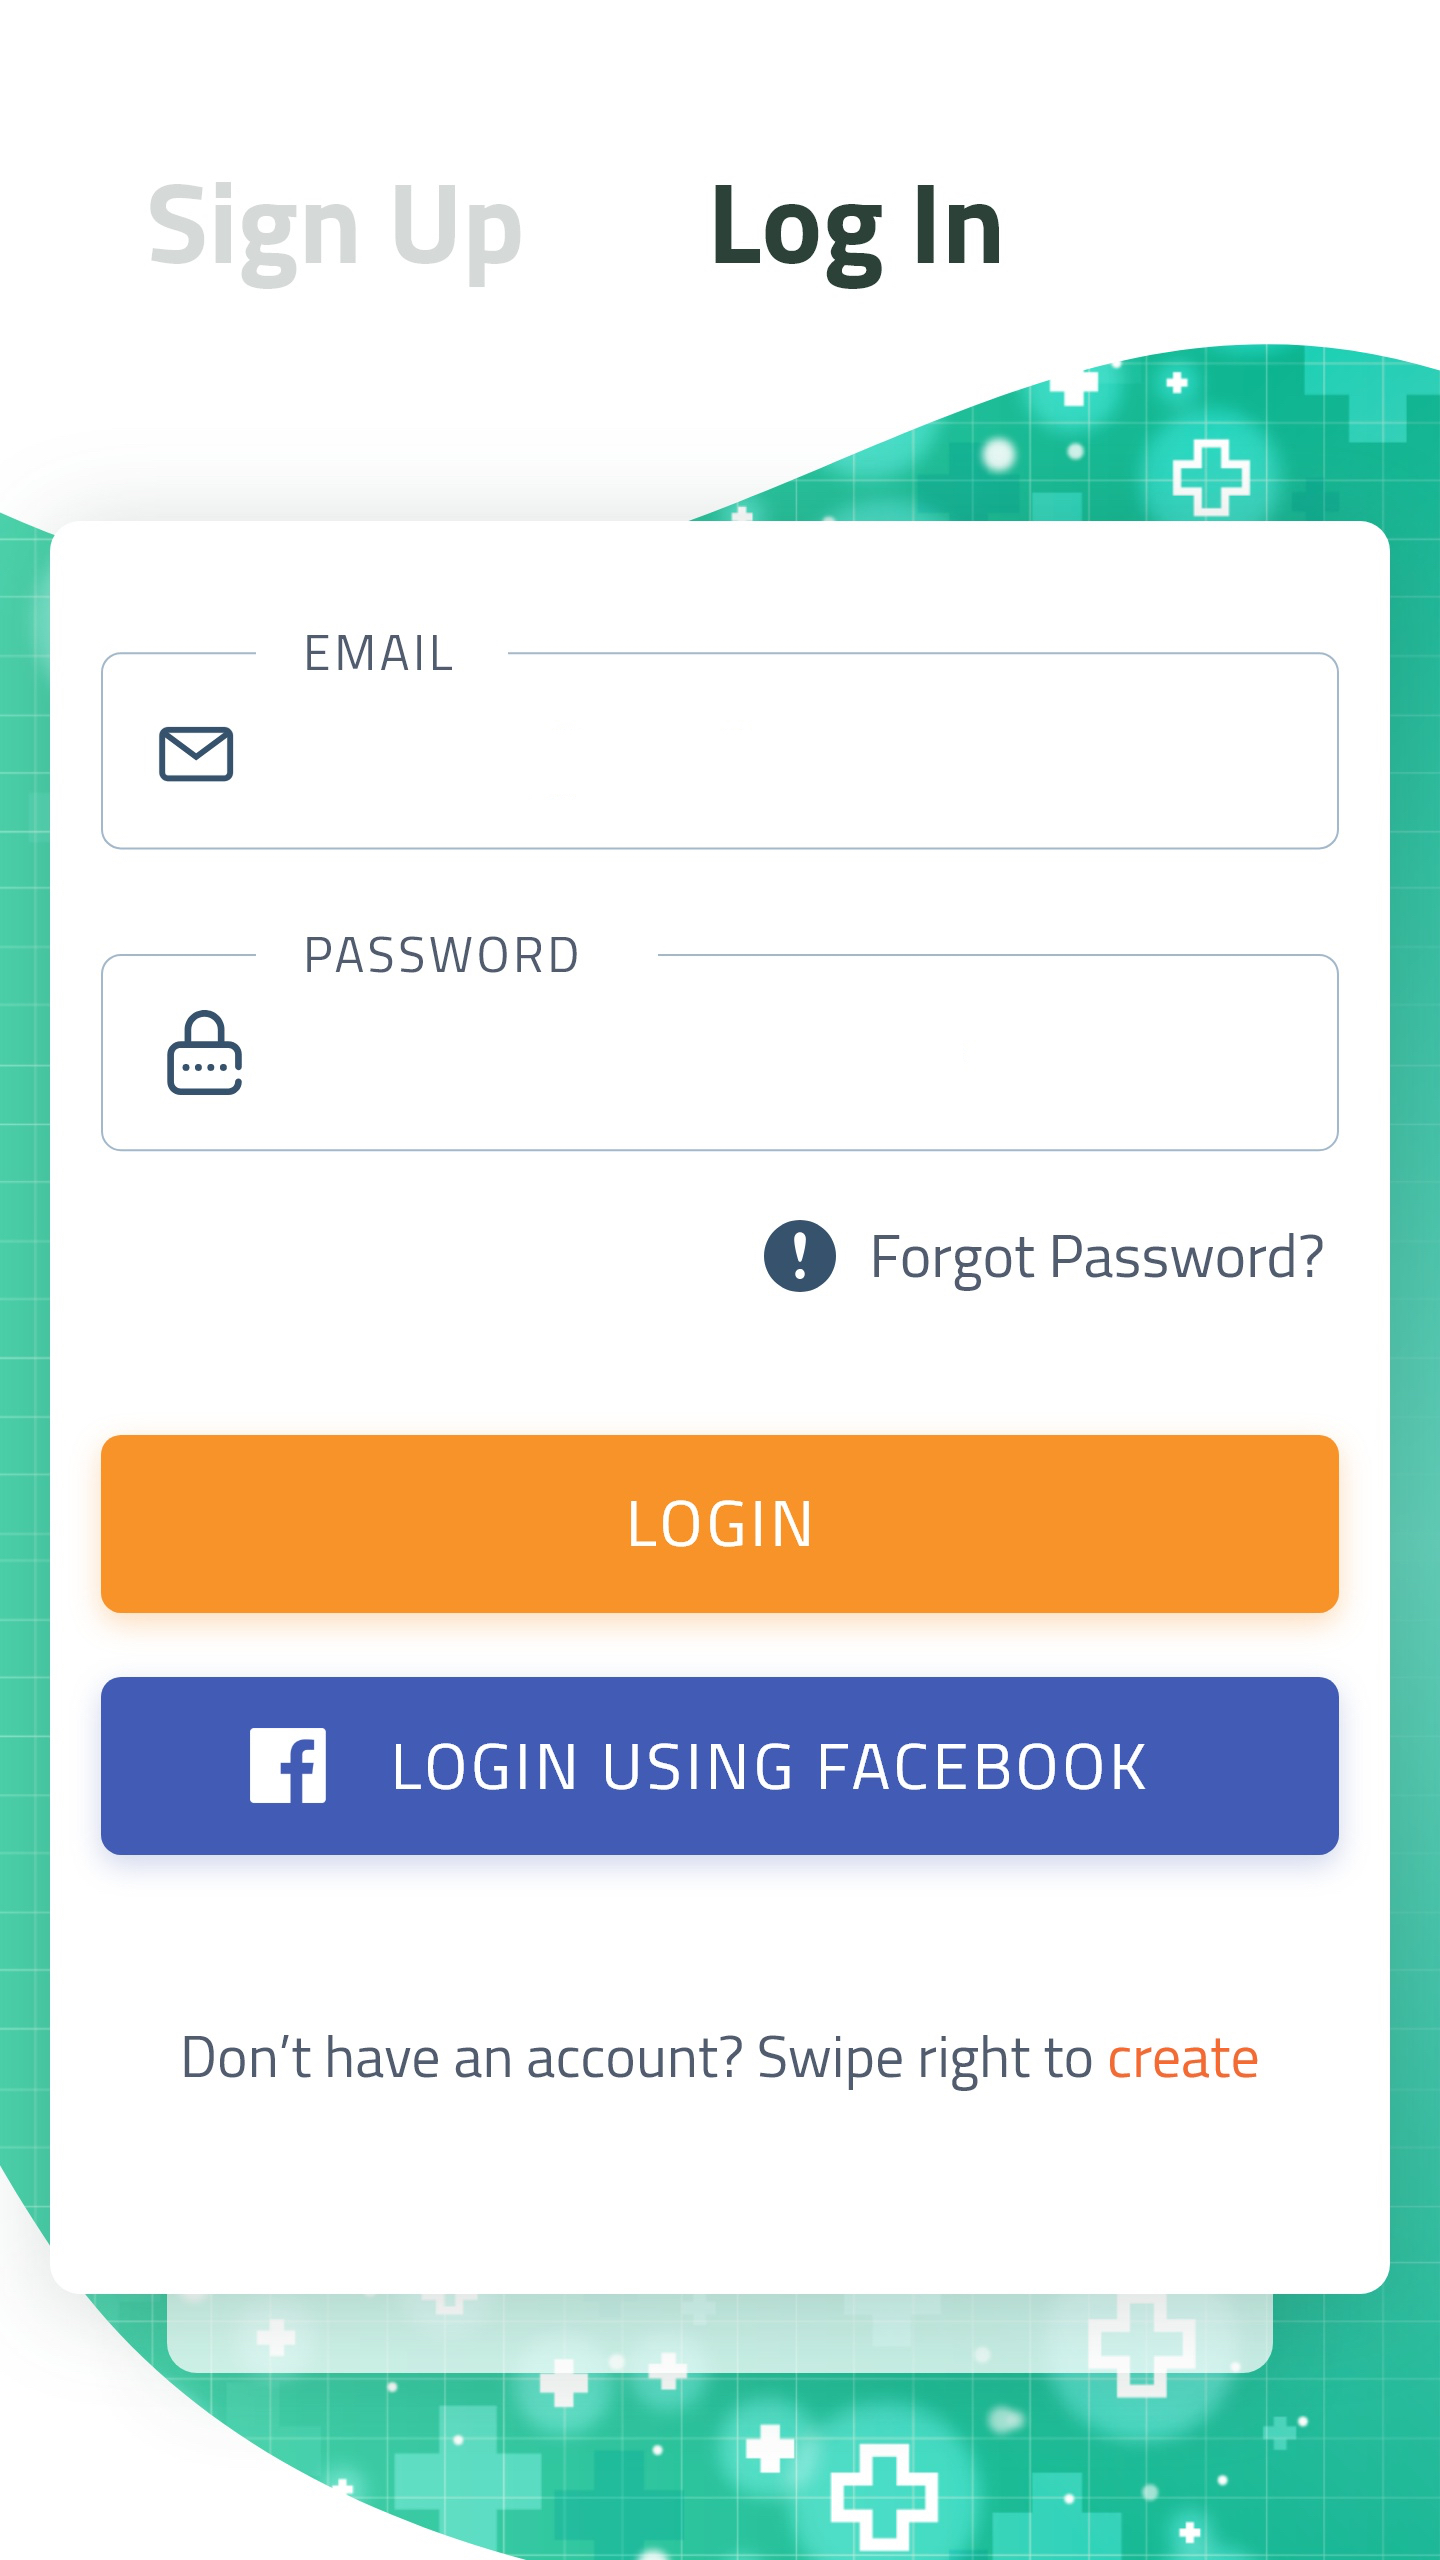EditText: (102, 935, 1340, 1153), (100, 635, 1340, 851)
Icon: (169, 1009, 244, 1095), (765, 1220, 837, 1292), (158, 726, 236, 782)
Text: (185, 2034, 1257, 2092), (149, 183, 520, 292), (716, 186, 1000, 292), (874, 1233, 1324, 1292), (308, 935, 578, 972), (308, 635, 454, 672)
TextButton: (100, 1435, 1340, 1614), (100, 1677, 1340, 1855)
